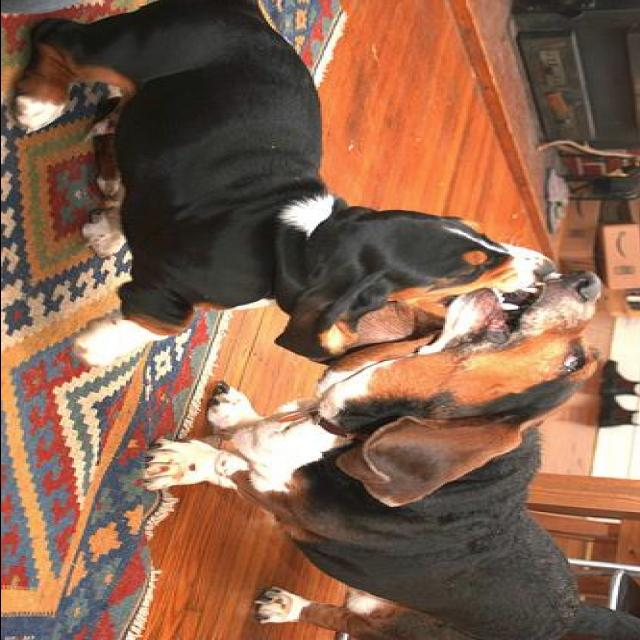basset: (4, 1, 567, 369), (142, 272, 640, 640)
